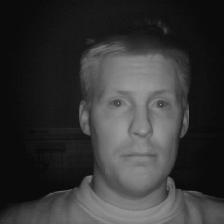normal: (65, 17, 205, 205)
